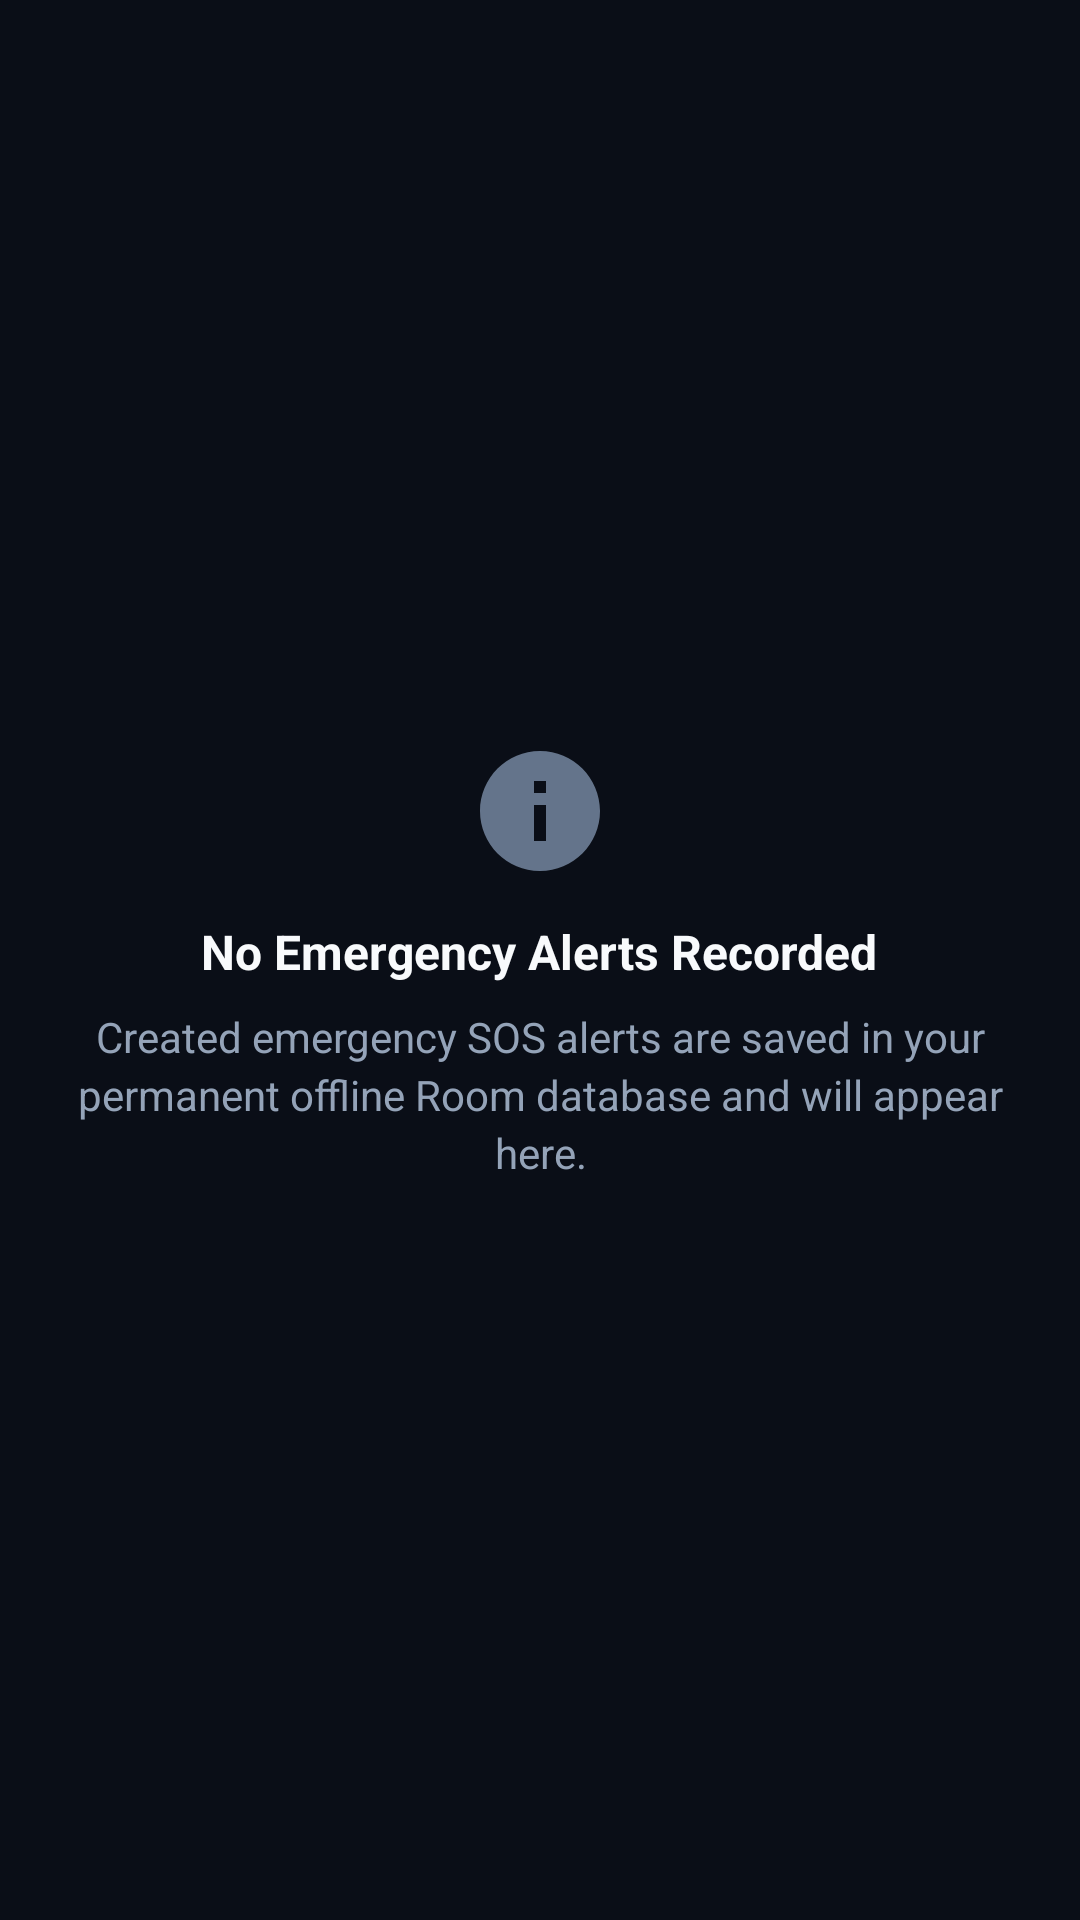

Icons on this 1080×1920 Android screen, each with the point to tap as (x=x, y=y):
info: (x=540, y=811)
